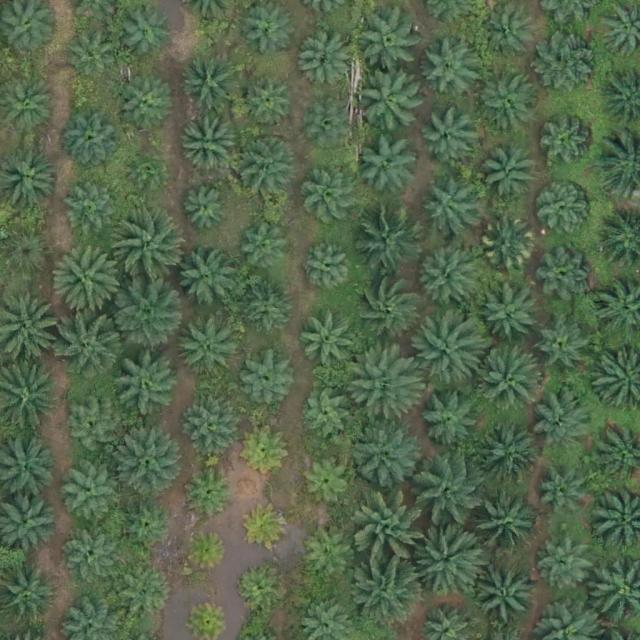Healthy: (112, 349, 183, 420), (56, 309, 127, 380), (354, 69, 425, 140), (469, 492, 539, 563), (477, 347, 547, 418), (416, 319, 486, 390), (357, 497, 427, 568), (349, 346, 419, 417), (352, 275, 422, 346), (354, 209, 424, 280), (116, 212, 186, 283), (112, 280, 182, 351), (113, 426, 183, 497), (54, 244, 124, 315), (417, 458, 487, 528), (414, 524, 484, 594), (354, 557, 424, 627), (349, 418, 419, 488), (62, 109, 125, 172), (180, 52, 243, 115), (535, 390, 597, 453), (476, 564, 538, 627), (477, 425, 539, 488), (480, 284, 542, 347), (417, 384, 479, 447), (362, 134, 424, 197), (299, 312, 361, 375), (233, 134, 295, 197), (179, 114, 242, 176), (175, 249, 238, 311), (176, 314, 238, 377), (362, 11, 424, 74), (477, 71, 539, 134), (538, 31, 600, 94), (414, 248, 476, 310), (419, 35, 481, 97), (300, 240, 355, 296), (119, 498, 174, 553), (119, 572, 174, 627), (539, 118, 594, 173), (537, 186, 592, 241), (539, 248, 594, 303), (537, 321, 592, 376), (537, 474, 592, 529), (540, 539, 595, 594), (480, 147, 535, 202), (420, 109, 475, 164), (421, 182, 476, 237), (305, 172, 360, 227), (240, 283, 295, 338), (239, 218, 294, 273), (298, 453, 353, 508), (301, 530, 356, 585), (184, 396, 239, 451), (238, 353, 293, 408), (63, 471, 118, 526), (64, 528, 119, 583), (64, 185, 119, 240), (65, 30, 120, 85), (118, 8, 173, 63), (242, 75, 297, 130), (298, 34, 353, 89), (300, 389, 354, 444), (67, 401, 121, 456), (122, 80, 176, 135), (480, 7, 534, 62)
Small: (182, 186, 229, 234), (235, 564, 282, 612), (188, 468, 235, 515), (307, 103, 354, 150), (127, 151, 166, 190)
Yellow: (481, 219, 535, 274), (244, 504, 291, 552), (183, 529, 230, 576), (244, 428, 291, 475)
